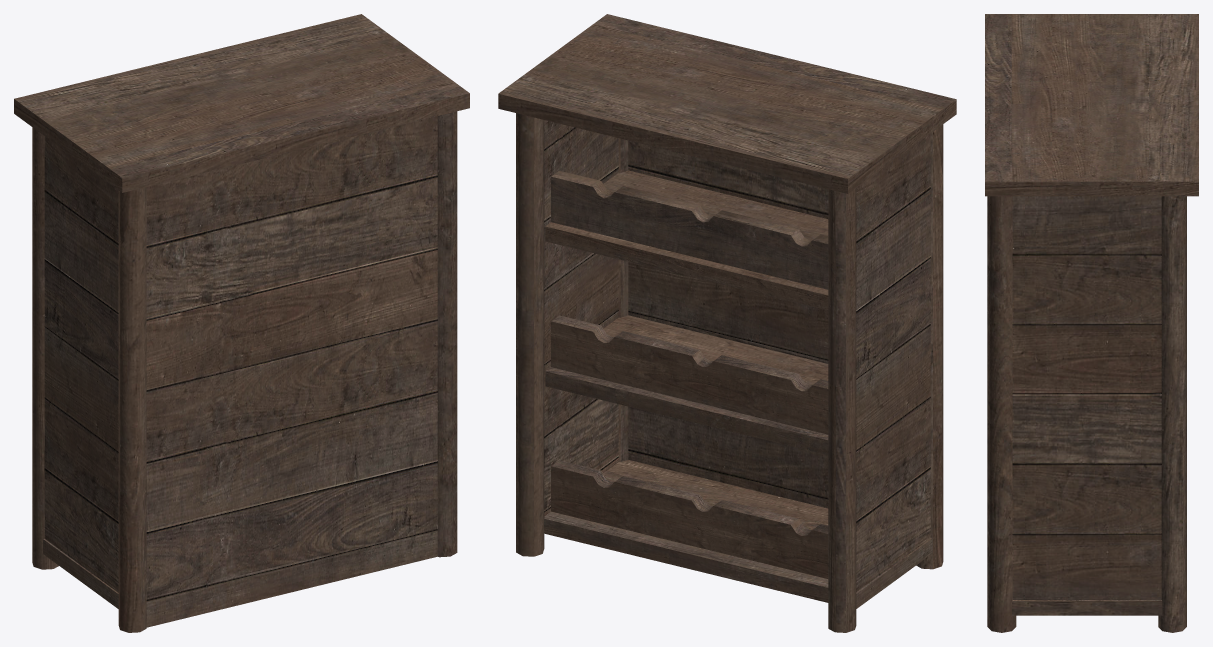
The model's file is mw_wine_rack_01.FBX.
3 renders of one model, left to right at view 1: azimuth 30°, elevation 25°; view 2: azimuth 150°, elevation 25°; view 3: azimuth 270°, elevation 25°, orthographic.
Parts seen in each view (by area): view 1: mw_wine_rack_01; view 2: mw_wine_rack_01; view 3: mw_wine_rack_01.
Boxes of the visible parts, box(x1,y1,x2,y2) form: mw_wine_rack_01: box(14, 14, 469, 632); mw_wine_rack_01: box(498, 14, 956, 632); mw_wine_rack_01: box(985, 14, 1198, 632).
Size of the model in its own units: 126 by 159 by 68.05.
